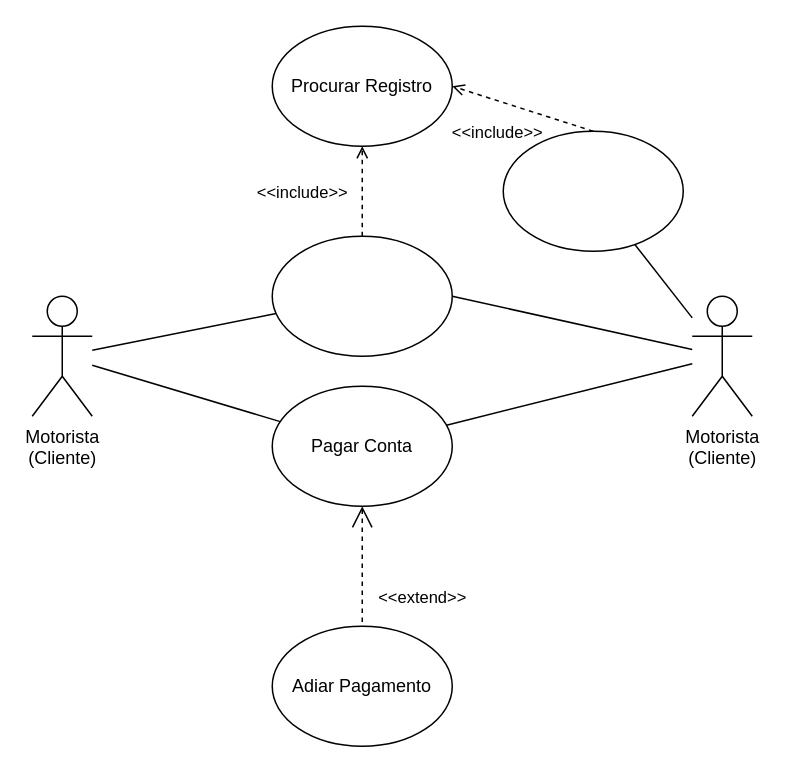
This 785x773 diagram has some shape labels left out. Each missing label, with the centre of its shape:
"Calcular Custo de Permanência" belongs at point 592,190.
"Fazer Cadastro" belongs at point 361,295.
